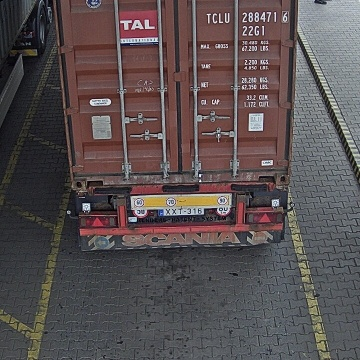serial_id: (206, 11, 289, 23)
